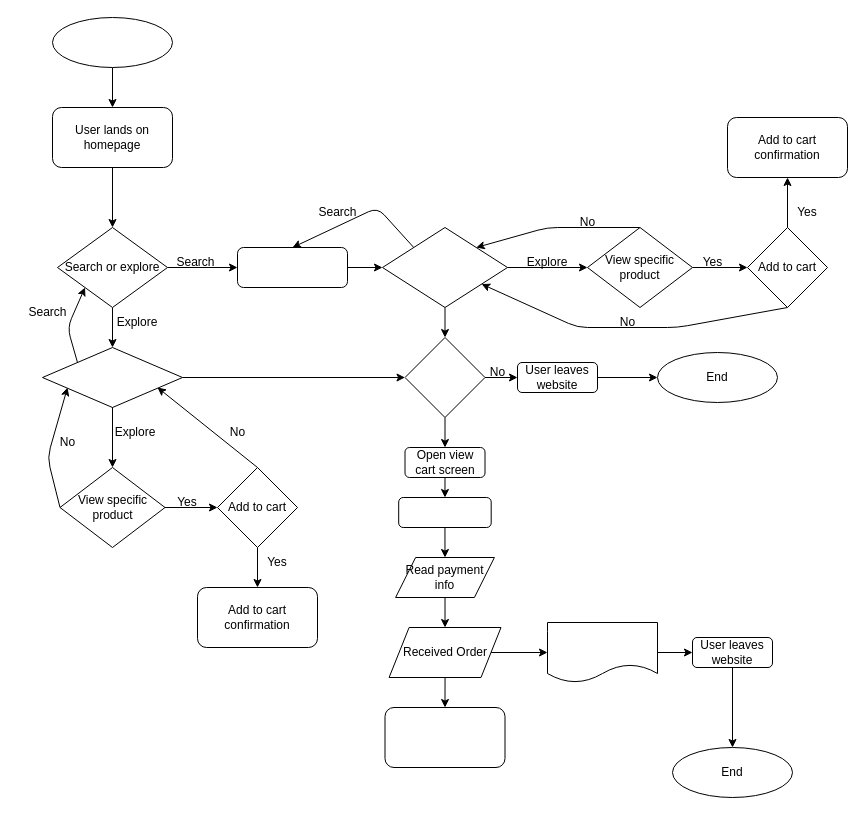
The diagram is 865 pixels wide and 815 high, and some of its shapes have lost their labels. Here are the shapes that lost their labels. From the top down, the centre of each, then its label:
At pixel 112 42: "Start".
At pixel 292 267: "User provides input".
At pixel 445 267: "Search or explore results or checkout".
At pixel 112 377: "Search or explore homepage or checkout".
At pixel 444 377: "Checkout".
At pixel 444 512: "Open view payment screen".
At pixel 602 652: "Order confirmation report".
At pixel 444 737: "Send email to user".
